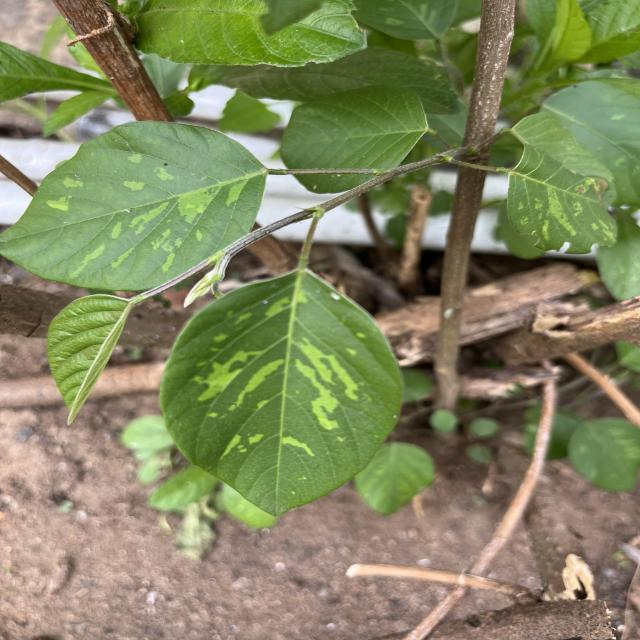Desmodium gangeticum: (0, 119, 274, 292)
